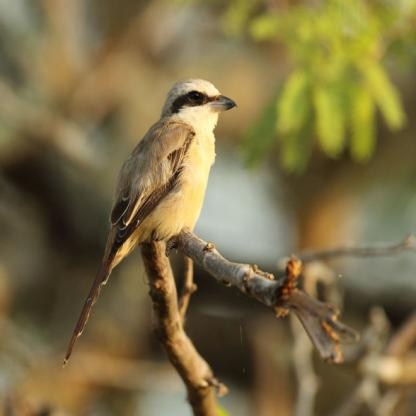Burung: (56, 72, 236, 366)
